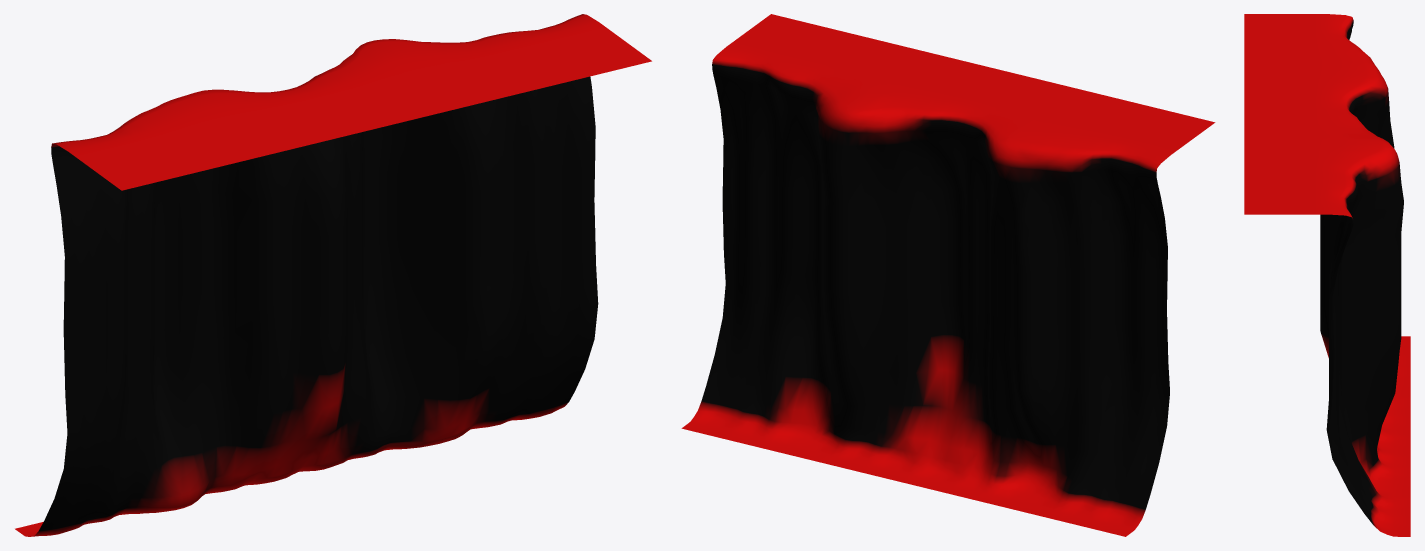
Rendered from GroundCliff02A 3M Foreground.fbx.
The picture shows the model from 3 angles, left to right: view 1: azimuth 30°, elevation 25°; view 2: azimuth 150°, elevation 25°; view 3: azimuth 270°, elevation 25°; orthographic projection. The views are drawn at different scales.
Parts seen in each view (by area): view 1: GroundCliff02A 3M Foreground; view 2: GroundCliff02A 3M Foreground; view 3: GroundCliff02A 3M Foreground.
Part boxes in pixels (x1,y1,x2,y2): GroundCliff02A 3M Foreground: (15,14,651,536); GroundCliff02A 3M Foreground: (681,14,1215,536); GroundCliff02A 3M Foreground: (1244,14,1410,536).
Size of the model in its own units: 4 by 3 by 1.4.
